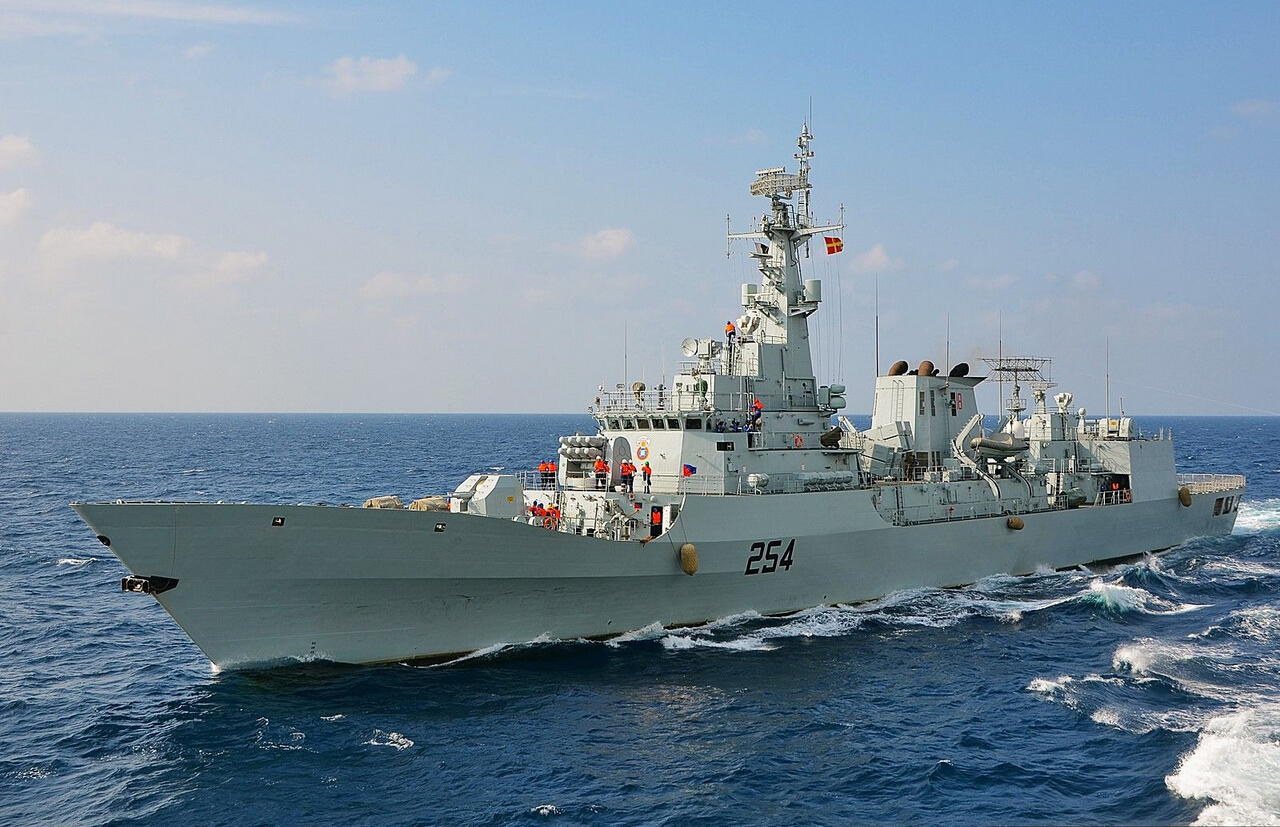warship: (61, 116, 1252, 663)
